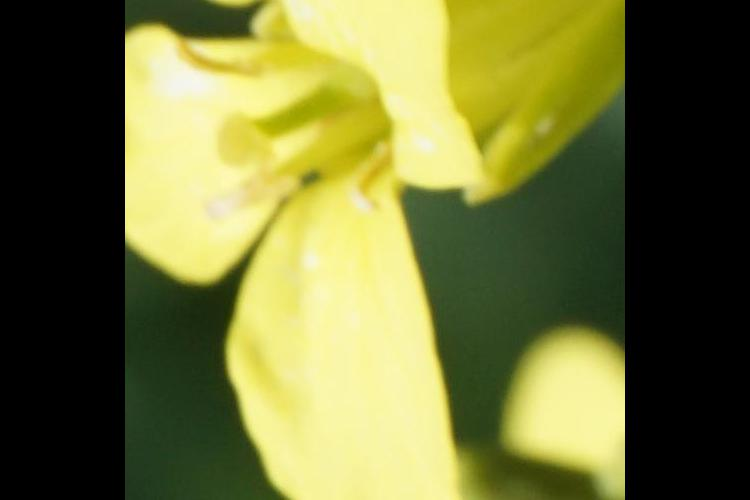yellow: (139, 1, 512, 500)
